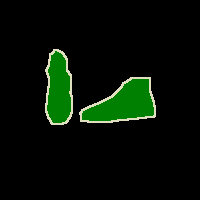shoe: (80, 78, 155, 122), (46, 50, 72, 124)
